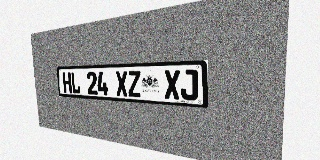2: (87, 72, 98, 95)
4: (97, 71, 108, 95)
H: (62, 72, 72, 93)
J: (180, 69, 198, 101)
L: (71, 72, 81, 94)
X: (164, 70, 180, 100), (115, 71, 128, 96)
Z: (127, 71, 141, 97)
